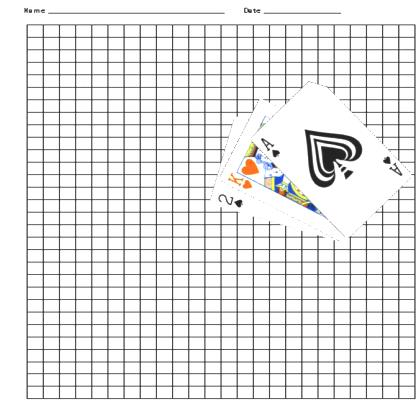2S: (214, 191, 244, 209)
AS: (380, 152, 404, 178), (257, 135, 281, 159)
KH: (224, 170, 253, 191)
